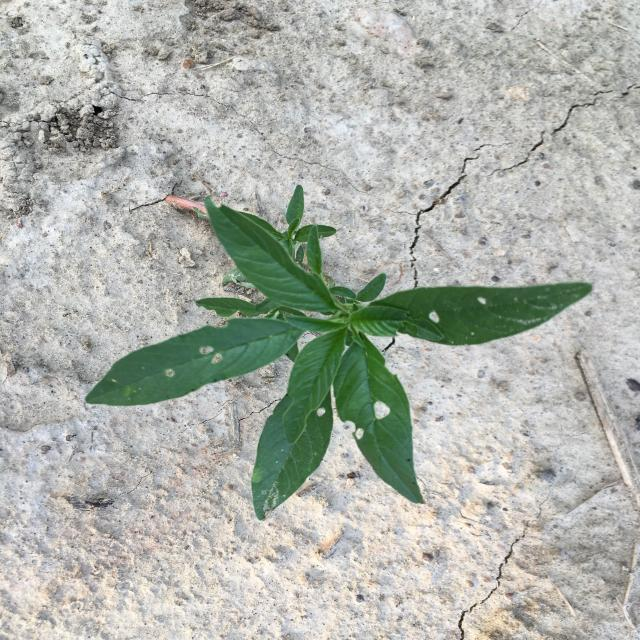Waterhemp: (85, 184, 592, 522)
